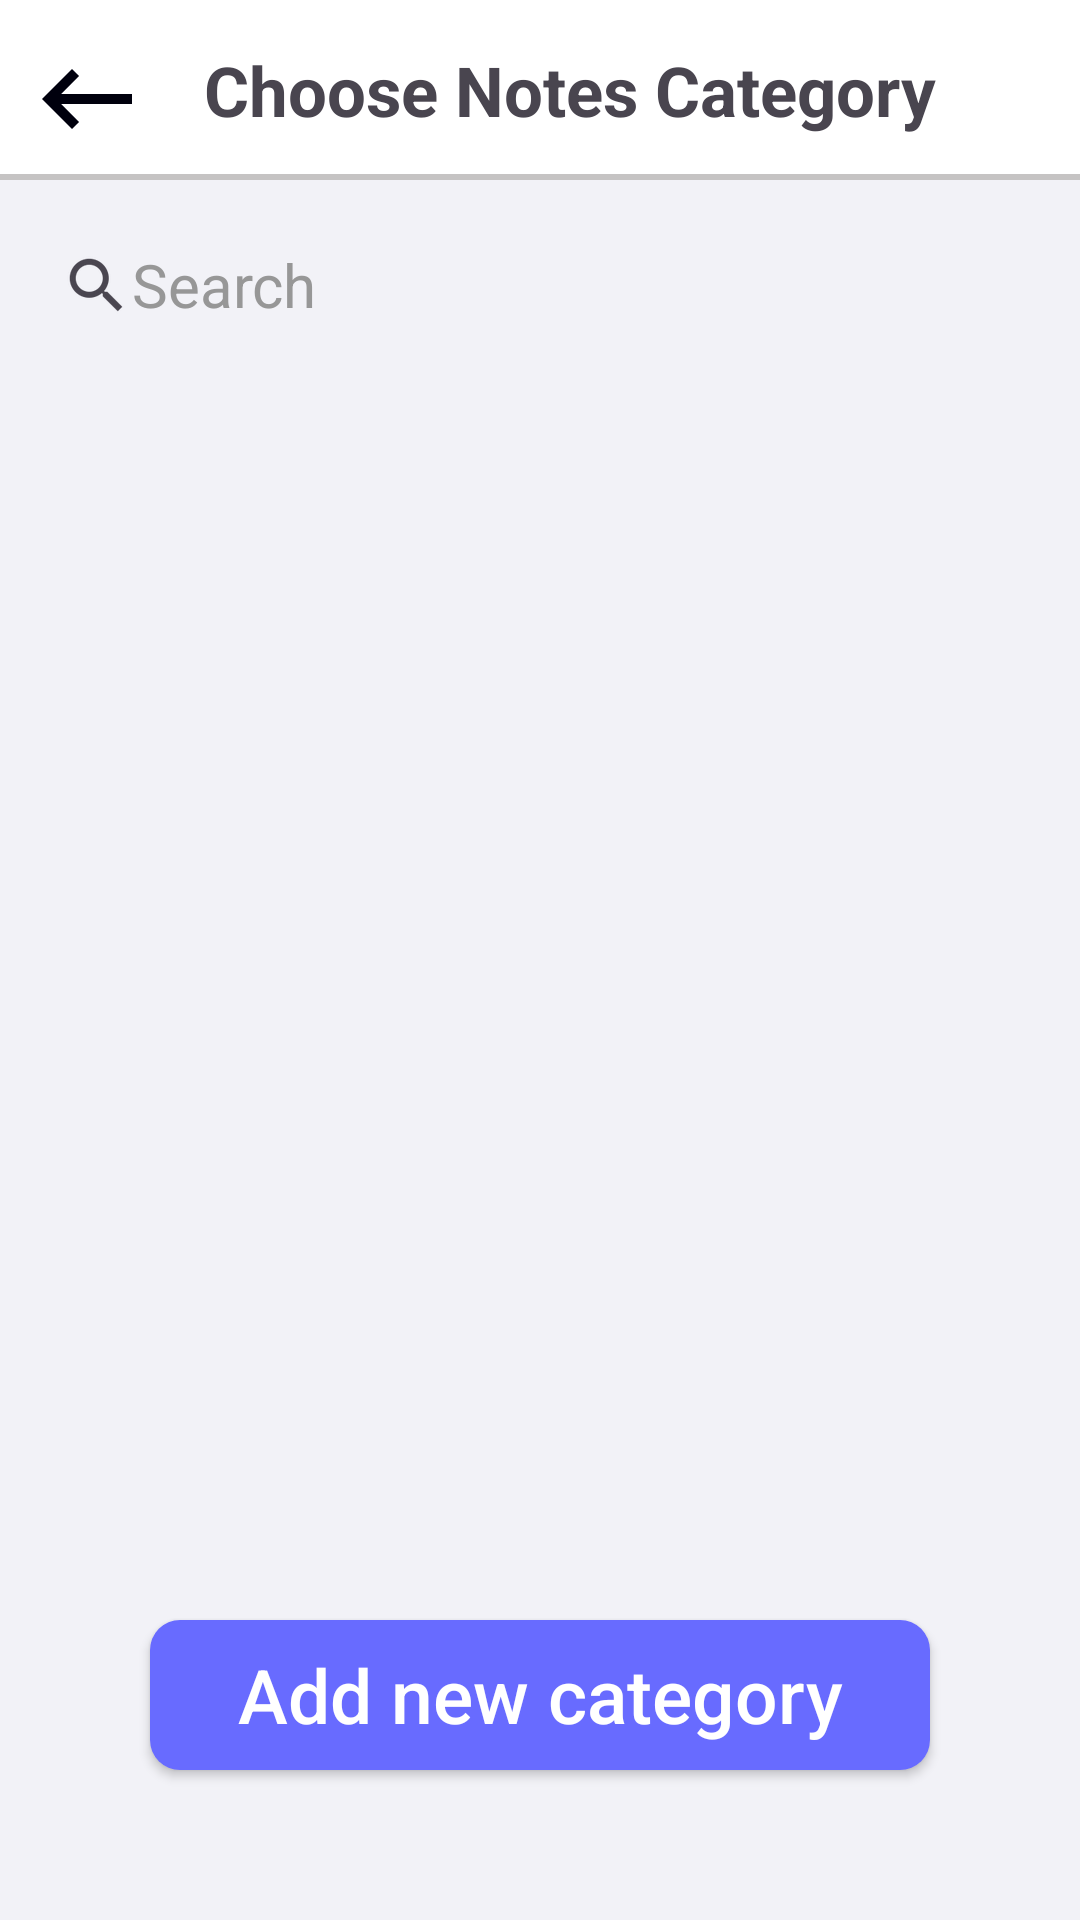

Named icons in this screenshot (1080 x 1920) and their centers, (x,y):
keyboard backspace: (87,99)
